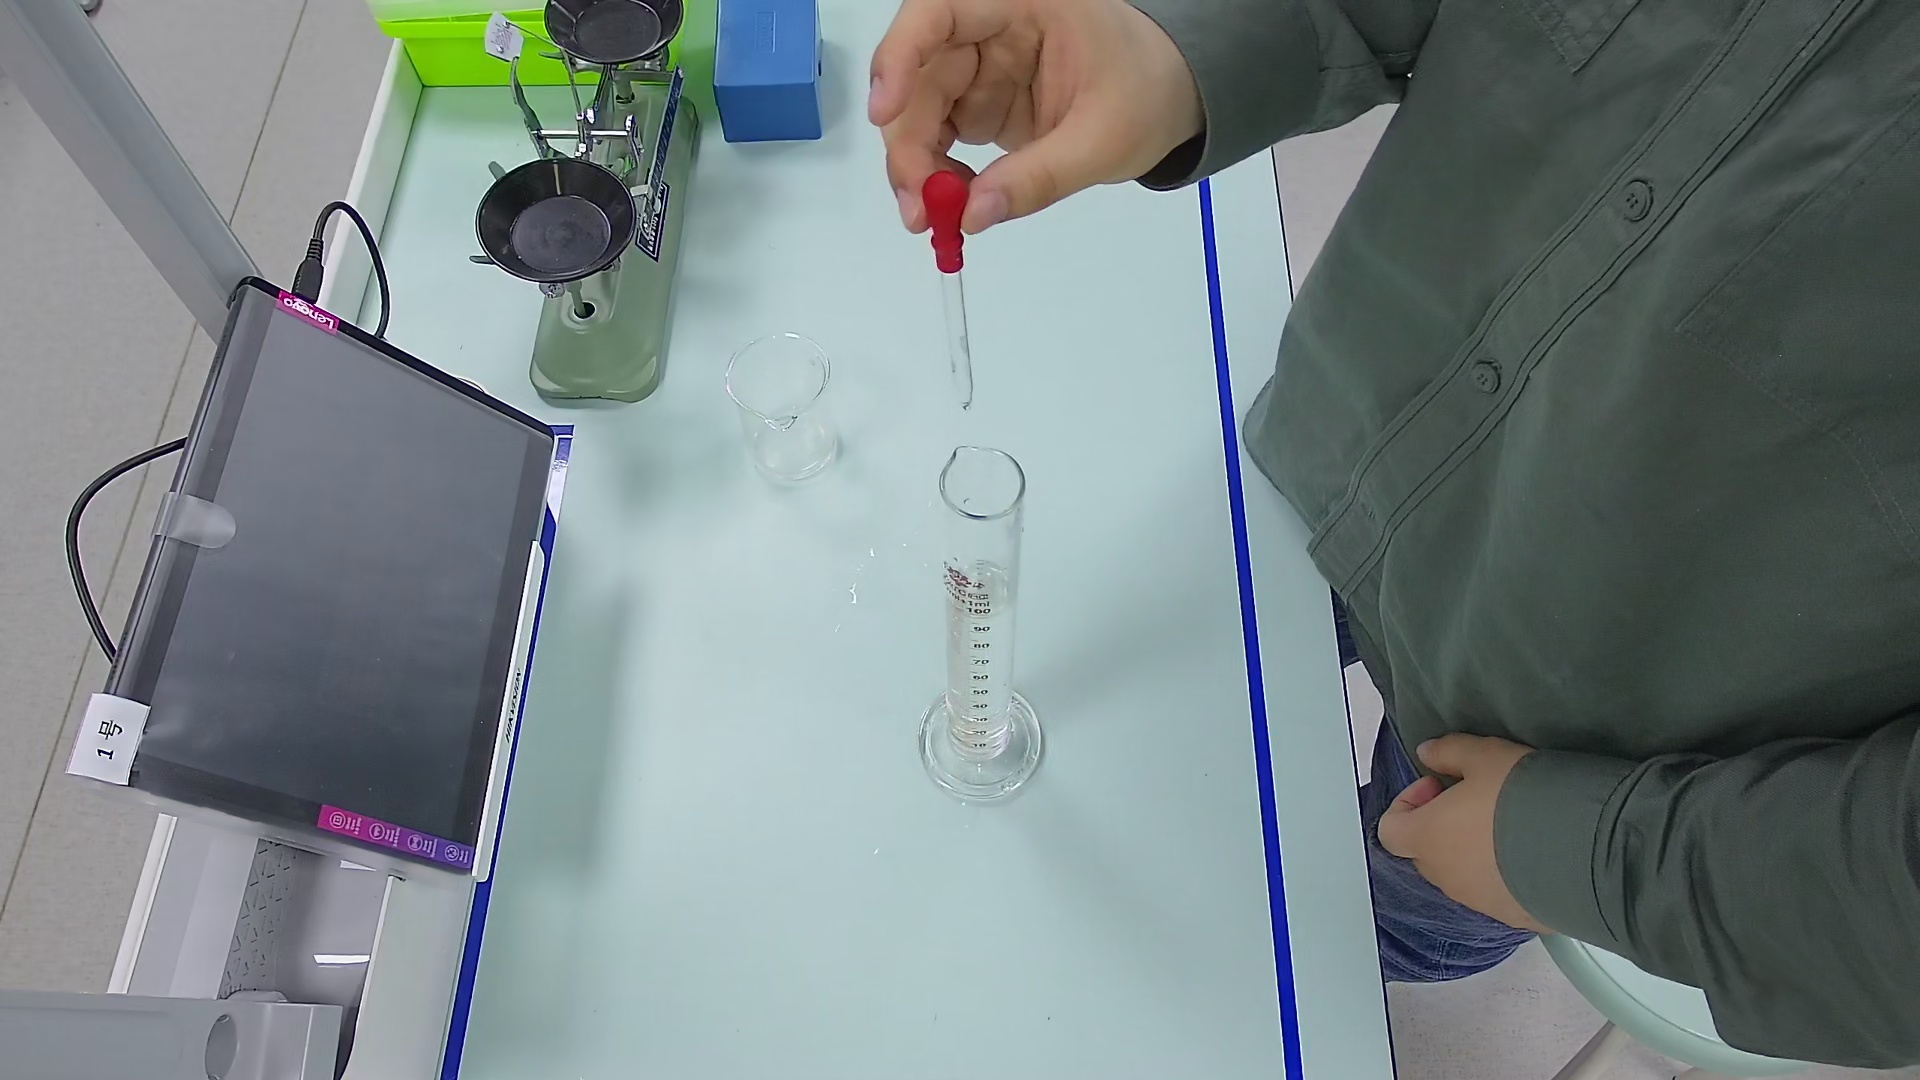ao: (949, 554, 1021, 620)
bei: (716, 324, 847, 487)
diguan: (919, 169, 992, 415)
diguantou: (924, 179, 975, 272)
hand: (866, 1, 1182, 220), (1391, 735, 1585, 942)
liangdi: (916, 687, 1046, 796)
liangtong: (931, 442, 1046, 794)
tuo: (464, 150, 640, 294), (535, 1, 675, 67)
